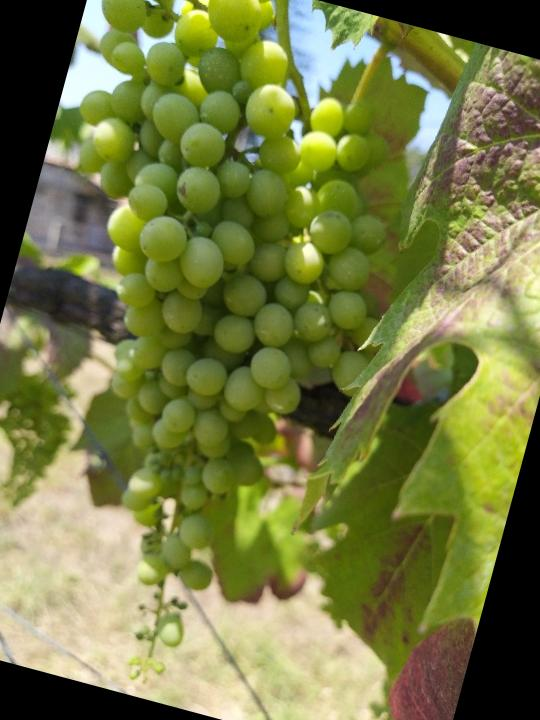grape: (0, 0, 463, 720)
